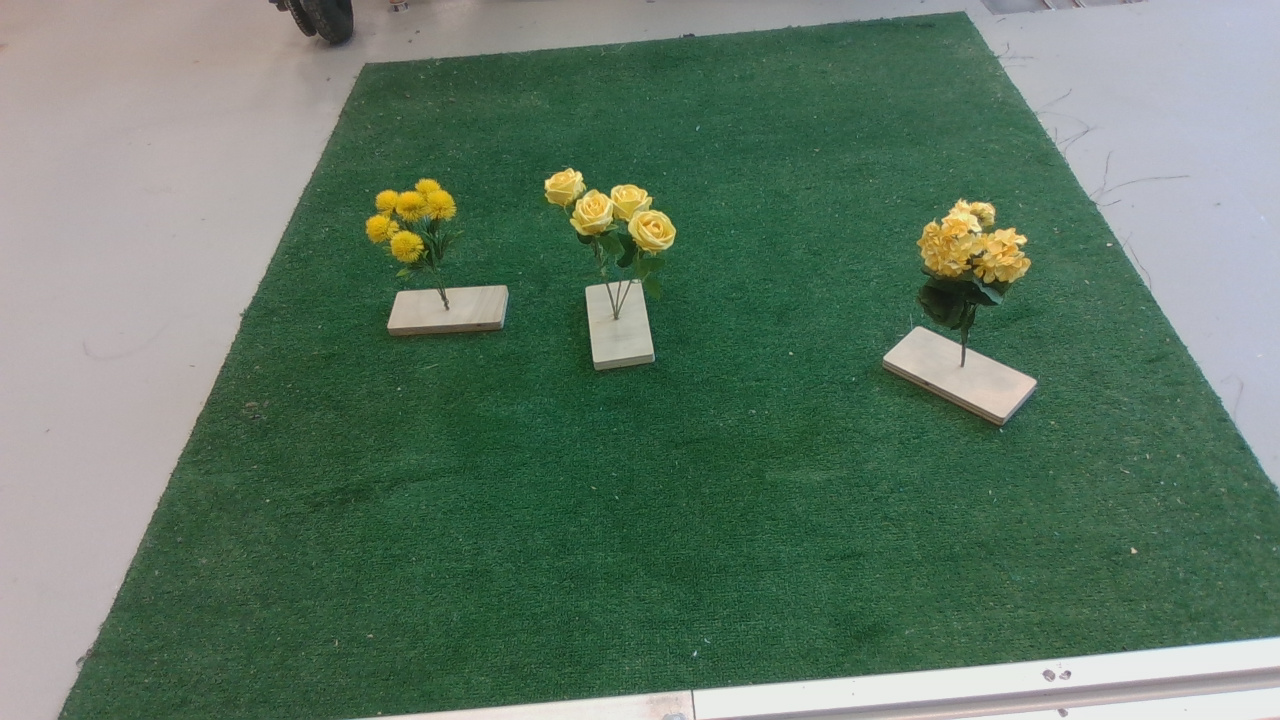dandelion: (366, 174, 472, 285)
geranium: (910, 186, 1040, 344)
rose: (537, 155, 687, 283)
